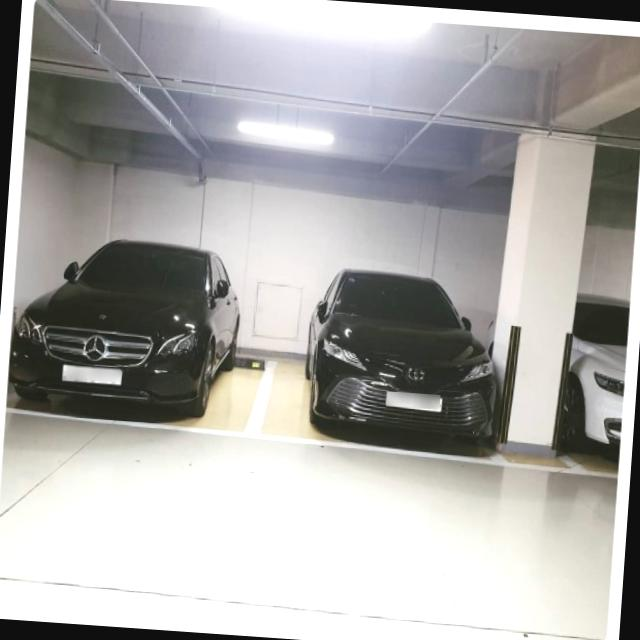car: (259, 238, 527, 454), (6, 226, 263, 428)
